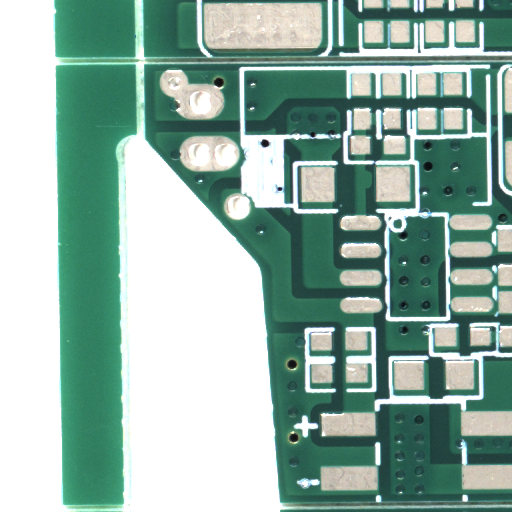Spur: (367, 181, 376, 204)
